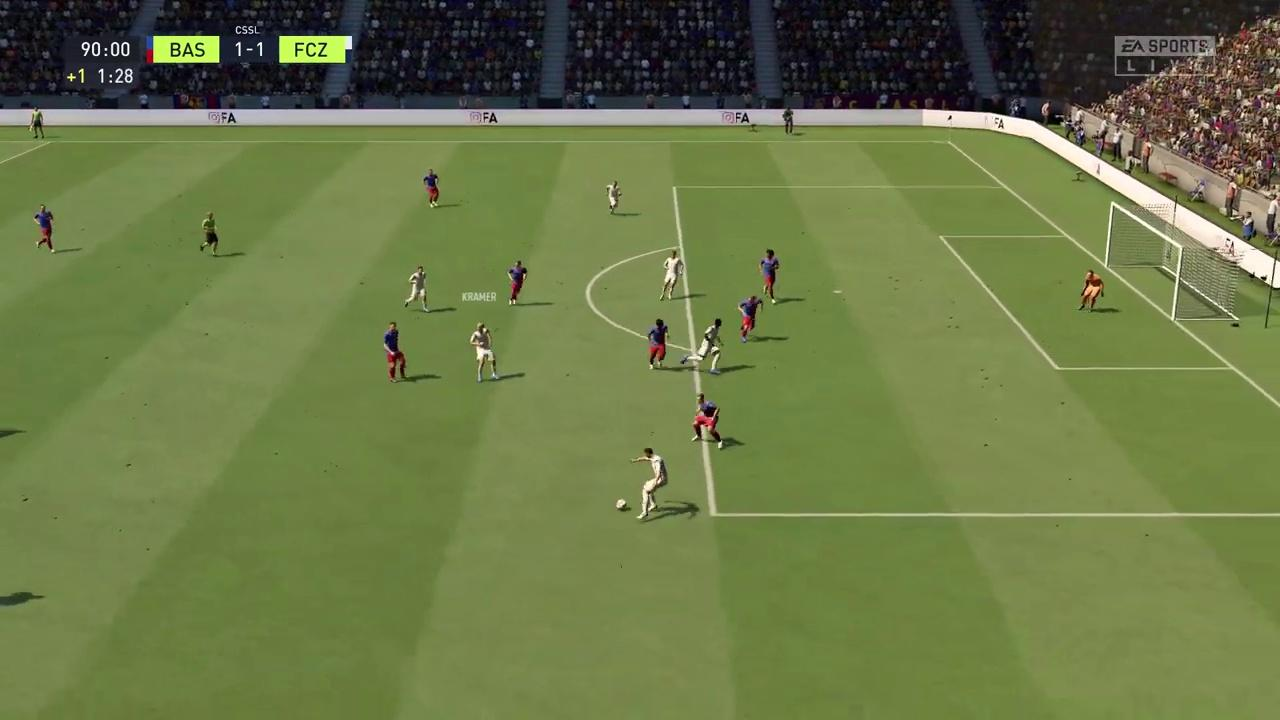scoreboard: (152, 35, 358, 64)
timestamp: (67, 37, 138, 91)
